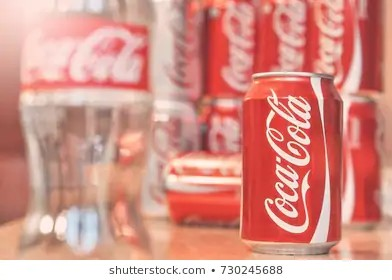coke-can: (246, 73, 341, 250), (341, 96, 383, 231), (152, 105, 199, 222), (309, 1, 365, 92), (156, 2, 204, 101), (207, 1, 255, 96), (255, 3, 309, 74)
